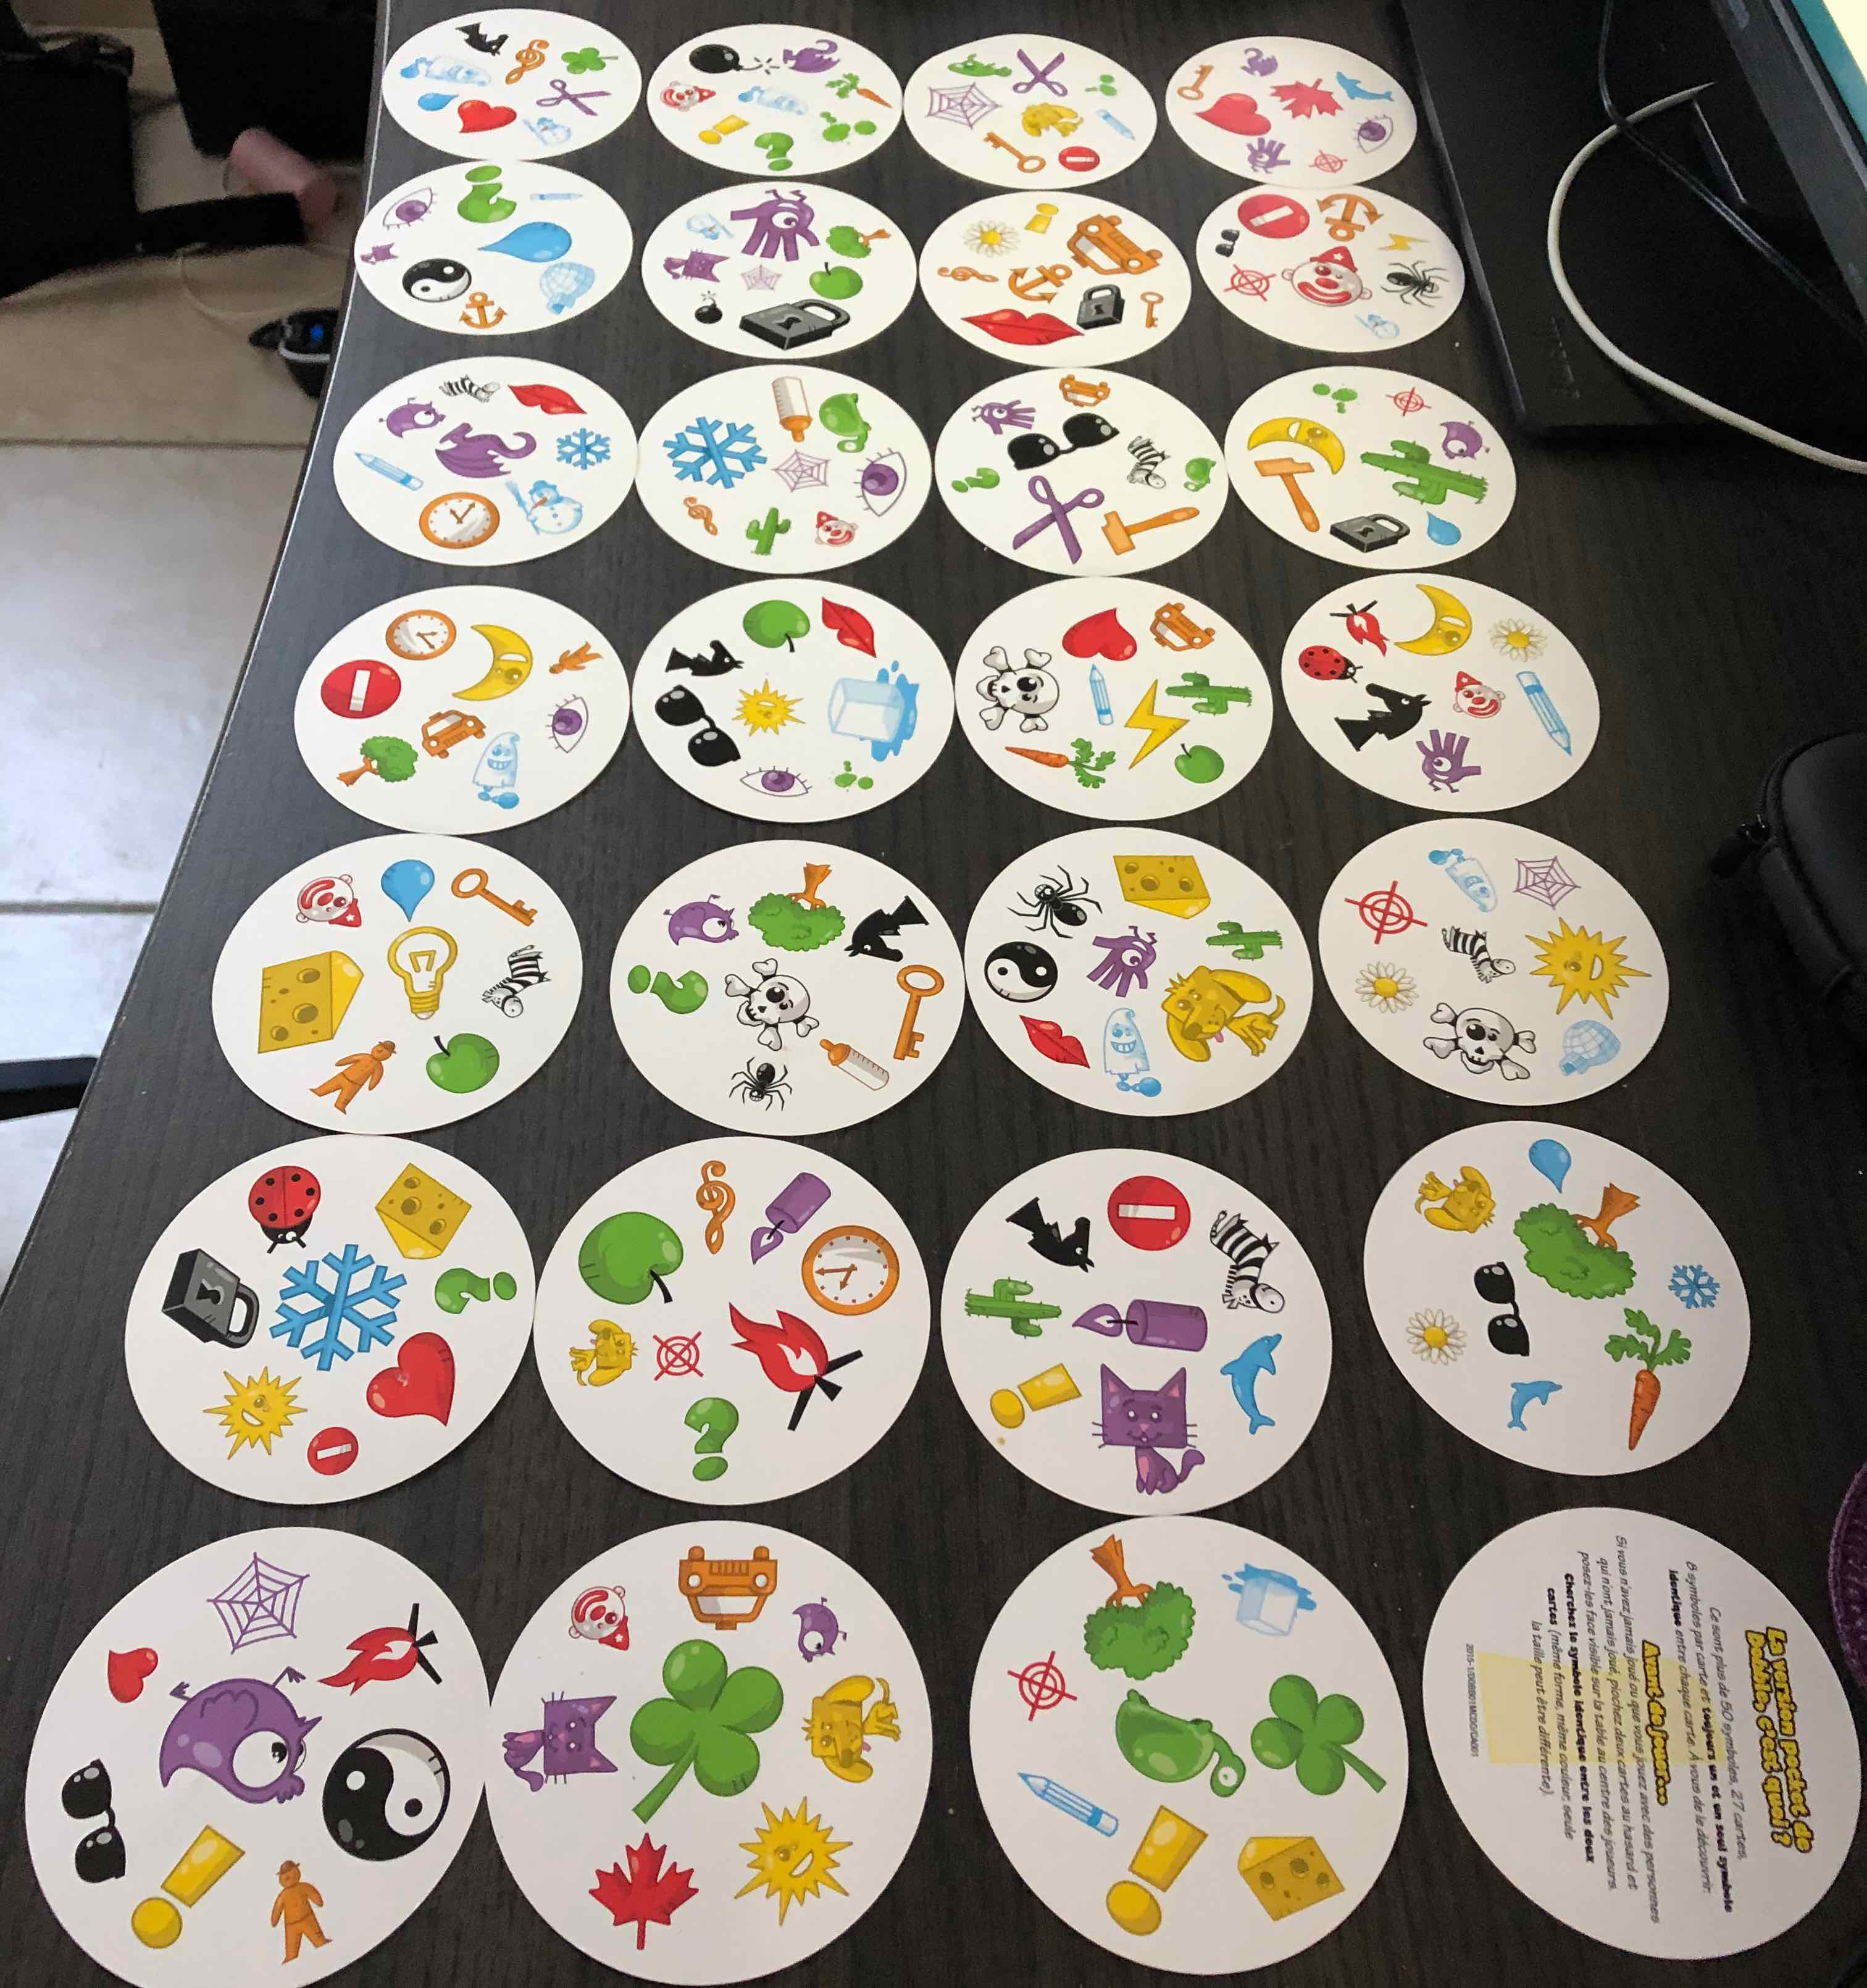ampoule: (376, 919, 469, 1026)
ancre: (1314, 181, 1386, 251), (1002, 258, 1084, 302), (456, 290, 514, 326)
araignee: (1007, 858, 1104, 937), (726, 1046, 795, 1118), (1377, 253, 1453, 311)
arbre: (1067, 1527, 1202, 1686), (1511, 1169, 1646, 1297), (744, 853, 844, 953), (328, 725, 423, 791), (818, 207, 893, 265)
biberon: (811, 1026, 893, 1093), (770, 368, 814, 447)
bombe: (686, 39, 783, 77), (690, 281, 723, 330)
bonhomme: (260, 1851, 335, 1962), (321, 1035, 400, 1119), (539, 639, 600, 683)
bonhomme_neige: (502, 470, 590, 540), (516, 105, 577, 149), (1351, 300, 1406, 340), (684, 209, 733, 251)
bouche: (955, 300, 1086, 358), (812, 590, 886, 663), (1012, 1011, 1091, 1074), (511, 374, 590, 419)
bougie: (1069, 1283, 1214, 1360), (744, 1167, 835, 1269)
cactus: (1360, 439, 1491, 511), (956, 1269, 1065, 1344), (1163, 660, 1260, 719), (1193, 907, 1286, 960), (733, 500, 795, 560)
cadenas: (158, 1246, 261, 1355), (740, 293, 855, 349), (1328, 505, 1413, 556), (1079, 277, 1128, 332)
carotte: (1606, 1305, 1693, 1453), (1005, 740, 1121, 791), (832, 63, 891, 118)
chat: (1097, 1360, 1207, 1498), (498, 1690, 618, 1797), (662, 247, 728, 281), (358, 235, 395, 270)
cheval: (1334, 677, 1430, 753), (1002, 1198, 1098, 1274), (844, 886, 932, 962), (660, 635, 735, 683), (454, 16, 509, 58)
chien: (1158, 960, 1293, 1070), (802, 1670, 907, 1781), (1406, 1160, 1499, 1241), (558, 1312, 642, 1390), (1018, 98, 1084, 144)
cible: (1002, 1651, 1086, 1725), (1341, 883, 1435, 944), (647, 1328, 714, 1386), (1383, 379, 1432, 421), (1307, 142, 1348, 179)
cibme: (1220, 265, 1286, 312)
ciseau: (1011, 470, 1109, 577), (511, 81, 625, 119), (1007, 35, 1072, 100)
cle: (447, 858, 546, 935), (881, 962, 948, 1063), (981, 125, 1044, 177), (1174, 58, 1214, 102), (1135, 281, 1169, 332)
clown: (1279, 240, 1370, 307), (565, 1581, 640, 1653), (290, 863, 368, 932), (1449, 663, 1514, 725), (805, 502, 862, 549), (656, 75, 721, 112)
coccinelle: (237, 1142, 339, 1244), (1293, 635, 1363, 690)
coeur: (353, 1323, 467, 1439), (1060, 598, 1146, 663), (1190, 88, 1279, 140), (98, 1639, 165, 1706), (449, 95, 516, 140)
crayon: (1012, 1762, 1132, 1848), (1507, 663, 1583, 765), (347, 439, 432, 495), (1081, 660, 1127, 732), (1093, 100, 1146, 147), (523, 181, 598, 204)
dauphin: (1220, 1330, 1291, 1444), (1499, 1374, 1563, 1435), (1334, 63, 1398, 105)
dinausore: (941, 44, 1019, 82)
dooble: (728, 179, 825, 260), (1081, 919, 1170, 997), (1413, 723, 1486, 797), (976, 381, 1044, 435), (1241, 140, 1298, 174)
dragon: (430, 419, 535, 481), (781, 28, 842, 86), (1235, 46, 1284, 81)
eclair: (1121, 676, 1190, 772), (1363, 223, 1441, 265)
fantome: (1425, 833, 1507, 918), (1098, 997, 1165, 1098), (469, 723, 528, 814), (395, 51, 491, 89), (735, 81, 823, 118)
feu: (723, 1298, 867, 1435), (319, 1591, 449, 1698), (1328, 593, 1400, 663)
feuille: (597, 1811, 700, 1944), (1274, 63, 1339, 125)
fleur: (1353, 960, 1427, 1021), (1402, 1305, 1469, 1372), (1486, 611, 1560, 669), (963, 214, 1023, 260)
flocon: (270, 1234, 425, 1379), (670, 405, 777, 504), (1665, 1253, 1734, 1318), (546, 421, 625, 476)
fromage: (253, 944, 365, 1058), (370, 1160, 474, 1263), (1237, 1832, 1346, 1925), (1111, 847, 1211, 925)
glacon: (819, 658, 923, 760), (1214, 1553, 1316, 1641)
goutte: (469, 219, 576, 263), (377, 853, 442, 925), (1521, 1135, 1588, 1195), (1420, 502, 1469, 553), (414, 81, 461, 118)
horloge: (798, 1216, 907, 1318), (414, 488, 507, 549), (383, 609, 461, 669)
igloo: (533, 253, 605, 319), (1556, 1019, 1625, 1083)
lune: (447, 619, 535, 714), (1237, 411, 1356, 477), (1393, 567, 1472, 663)
lunette: (54, 1755, 139, 1893), (647, 681, 744, 774), (1472, 1251, 1544, 1360), (1005, 407, 1121, 474), (1212, 219, 1244, 260)
marteau: (1248, 451, 1320, 537), (1102, 500, 1205, 560)
note: (690, 1155, 739, 1258), (497, 28, 553, 95), (674, 493, 723, 542), (933, 258, 1000, 293)
oeuil: (739, 760, 819, 809), (539, 686, 593, 756), (381, 177, 447, 228), (1353, 107, 1400, 156)
oiseau: (158, 1658, 328, 1814), (653, 888, 746, 953), (770, 1600, 849, 1670), (381, 393, 444, 435), (1442, 407, 1479, 465)
point_exclamation: (1102, 1786, 1223, 1949), (126, 1820, 249, 1955), (988, 1356, 1079, 1432), (693, 105, 753, 142), (1025, 191, 1062, 239)
point_interrogation: (623, 955, 723, 1028), (679, 1390, 746, 1488), (432, 1256, 526, 1312), (456, 165, 521, 232), (948, 453, 1000, 507), (753, 125, 795, 177)
pomme: (574, 1207, 693, 1318), (419, 1023, 502, 1102), (739, 591, 812, 658), (800, 244, 874, 311), (1170, 740, 1227, 786)
sens_interdit: (1107, 1169, 1195, 1251), (314, 653, 405, 725), (1232, 191, 1311, 244), (304, 1421, 365, 1477), (1056, 135, 1104, 179)
soleil: (730, 1784, 867, 1925), (1527, 914, 1655, 1016), (211, 1369, 311, 1458), (726, 676, 807, 754)
tache: (819, 749, 890, 797), (1309, 377, 1363, 416), (1077, 65, 1123, 102)
tahce: (811, 102, 886, 160)
tete_mort: (1418, 990, 1541, 1088), (719, 960, 823, 1056), (970, 644, 1062, 737)
toile: (202, 1548, 316, 1653), (1511, 853, 1590, 914), (926, 75, 1002, 132), (732, 253, 790, 298)
tortue: (1109, 1686, 1248, 1802), (818, 386, 879, 458), (1183, 446, 1223, 500)
trefle: (619, 1635, 788, 1827), (1249, 1669, 1393, 1807), (560, 39, 623, 75)
voiture: (679, 1542, 788, 1630), (1062, 202, 1165, 282), (1148, 591, 1220, 663), (411, 700, 490, 756), (1049, 368, 1116, 411)
ying_yang: (314, 1723, 461, 1869), (981, 935, 1062, 1004), (400, 244, 474, 314)
zebre: (1205, 1195, 1286, 1319), (479, 937, 558, 1026), (1427, 912, 1514, 986), (1123, 426, 1170, 493), (435, 372, 497, 409)
